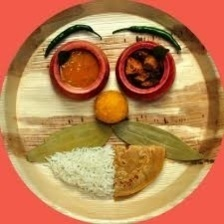roti: (112, 140, 170, 204)
